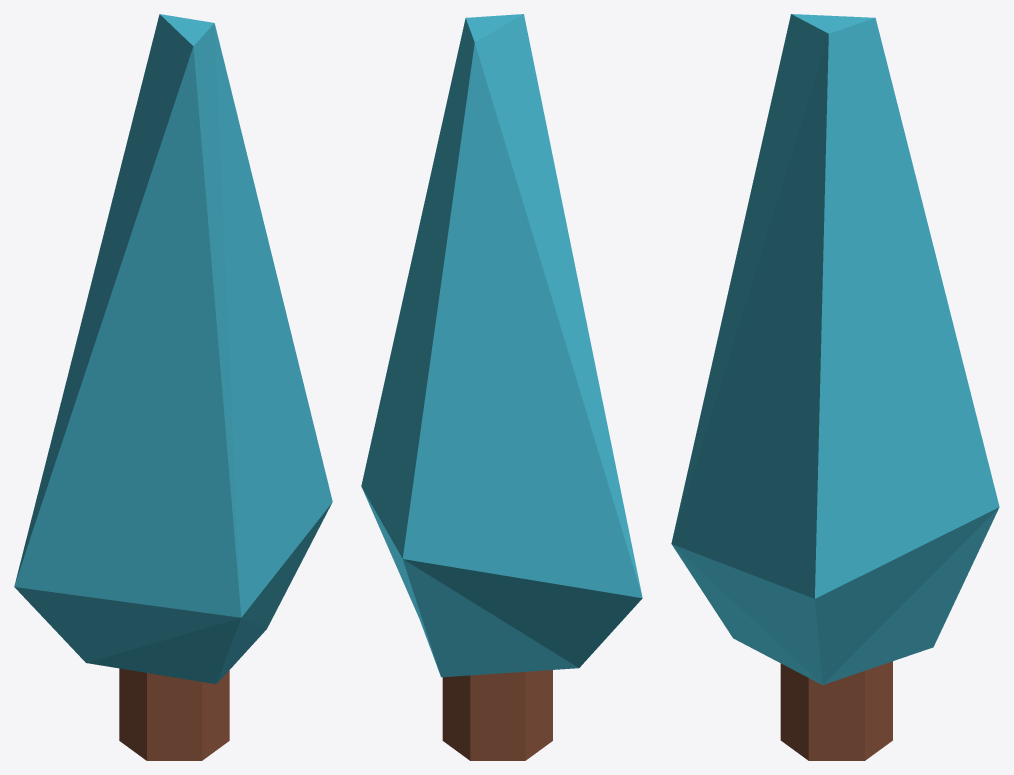
Rendered from Bush_10_summer_blue_pal.fbx.
The picture shows the model from 3 angles, left to right: view 1: azimuth 30°, elevation 25°; view 2: azimuth 150°, elevation 25°; view 3: azimuth 270°, elevation 25°; orthographic projection.
Visible parts, largest first — view 1: Bush_10_summer_blue_pal; view 2: Bush_10_summer_blue_pal; view 3: Bush_10_summer_blue_pal.
Boxes of the visible parts, x1,y1,x2,y2 form: Bush_10_summer_blue_pal: (14,14,332,760); Bush_10_summer_blue_pal: (361,14,642,760); Bush_10_summer_blue_pal: (671,14,999,760).
Bounding box in the file's own units: 38.13 × 86.43 × 35.48.
